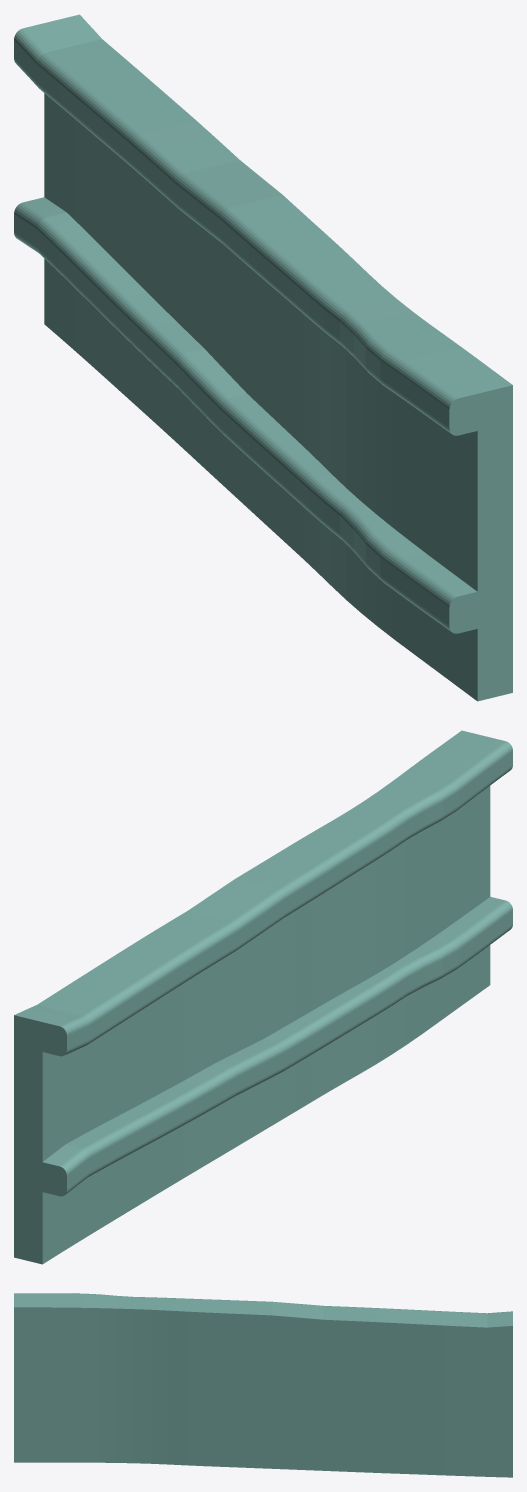
The model's file is part-solder-modules-tweezers__v8__long-body-cradle__fit-e586ab4ff6__test-piece.glb.
3 views of the same model, one above another, from view 1: azimuth 30°, elevation 25°; view 2: azimuth 150°, elevation 25°; view 3: azimuth 270°, elevation 25° (orthographic). The views are drawn at different scales.
Visible parts, largest first — view 1: holder; view 2: holder; view 3: holder.
Boxes of the visible parts, <box> form: holder: <box>14,14,512,701</box>; holder: <box>14,730,512,1264</box>; holder: <box>14,1293,512,1477</box>.
Bounding box in the file's own units: 0.00853 × 0.0199 × 0.058.
